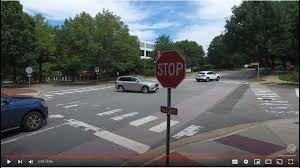stop sign: (156, 50, 186, 90)
